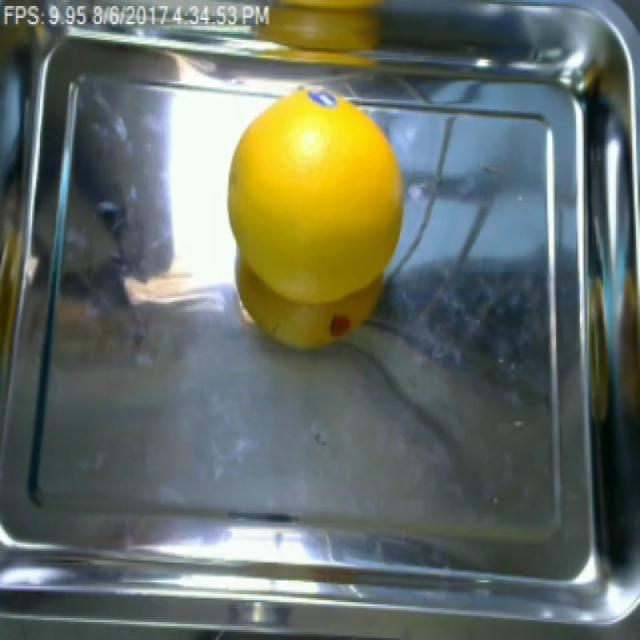Fruit: (220, 85, 408, 360), (249, 0, 400, 68)
